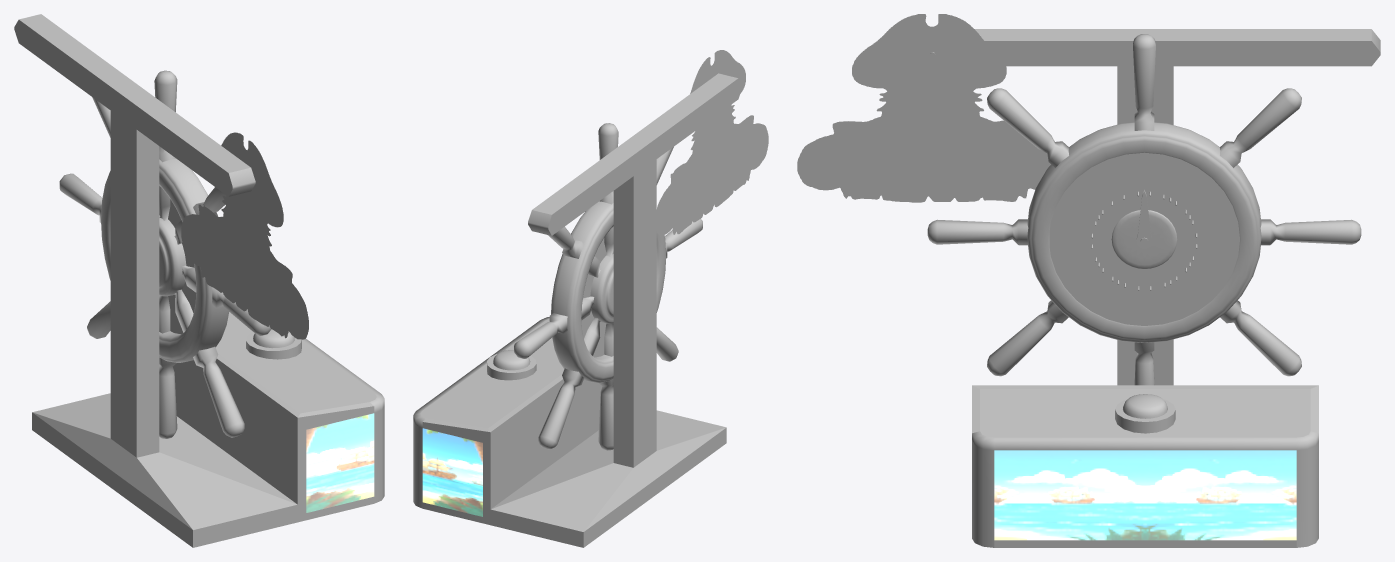
File: Pirate Spin Wheel.fbx
3 renders of one model, left to right at view 1: azimuth 30°, elevation 25°; view 2: azimuth 150°, elevation 25°; view 3: azimuth 270°, elevation 25°, orthographic. The views are drawn at different scales.
Parts seen in each view (by area): view 1: Base, Ship Wheel, Sign, Wheel Center, Spin Graphic, Button Base, Button; view 2: Base, Ship Wheel, Sign, Wheel Center, Spin Graphic, Button Base, Button; view 3: Base, Ship Wheel, Sign, Spin Graphic, Wheel Center, Button Base, Button.
Part boxes in pixels (x1,y1,x2,y2): Base: [14, 14, 384, 547]; Ship Wheel: [59, 70, 271, 438]; Sign: [181, 132, 308, 339]; Wheel Center: [159, 215, 186, 296]; Spin Graphic: [168, 199, 196, 334]; Button Base: [246, 331, 301, 359]; Button: [253, 329, 294, 348]; Base: [413, 73, 742, 547]; Ship Wheel: [514, 123, 702, 450]; Sign: [656, 50, 768, 234]; Wheel Center: [590, 254, 613, 323]; Spin Graphic: [581, 238, 606, 357]; Button Base: [487, 354, 536, 380]; Button: [493, 350, 530, 370]; Base: [930, 29, 1380, 547]; Ship Wheel: [927, 34, 1361, 385]; Sign: [797, 14, 1050, 202]; Spin Graphic: [1049, 152, 1239, 325]; Wheel Center: [1111, 210, 1177, 268]; Button Base: [1115, 399, 1175, 433]; Button: [1123, 394, 1167, 418].
Size of the model in its own units: 0.5714 by 1.14 by 1.35.
